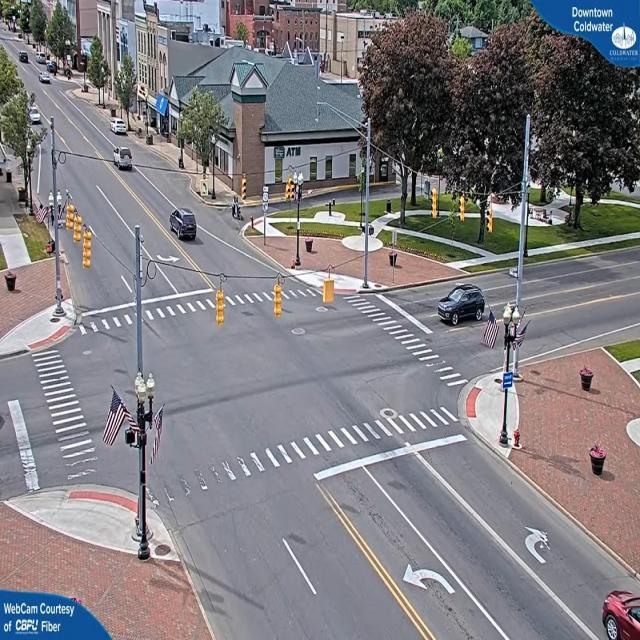car: (437, 282, 486, 326), (600, 588, 639, 640), (168, 210, 198, 242), (115, 149, 136, 171), (111, 121, 130, 138), (41, 72, 52, 84), (19, 53, 29, 64)
